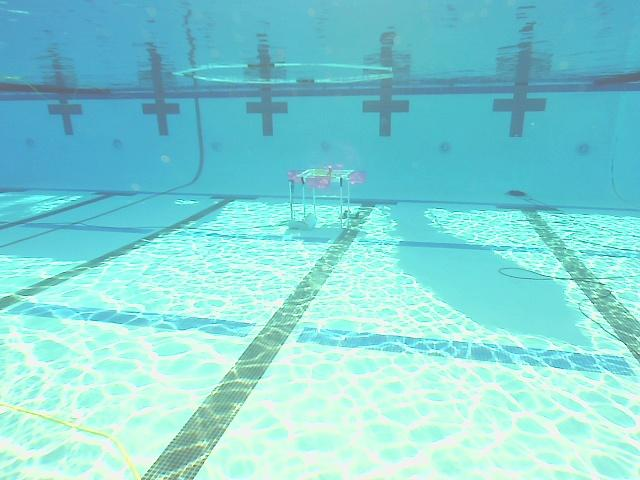table: (285, 163, 367, 234)
